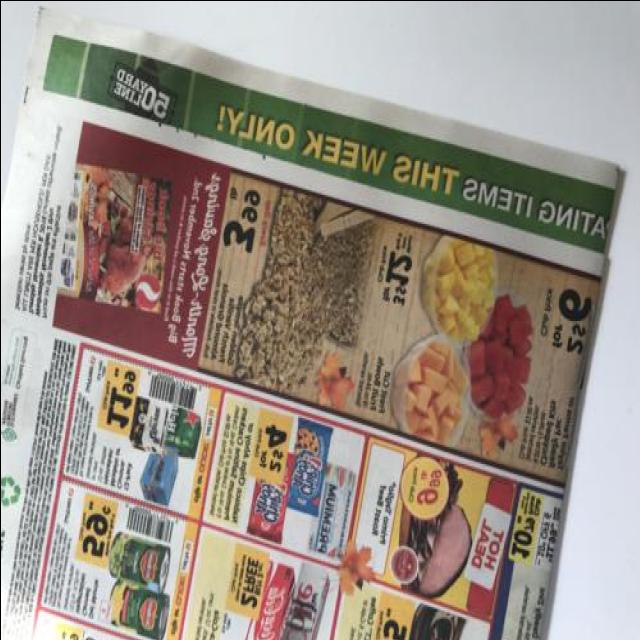kertas: (0, 5, 621, 640)
